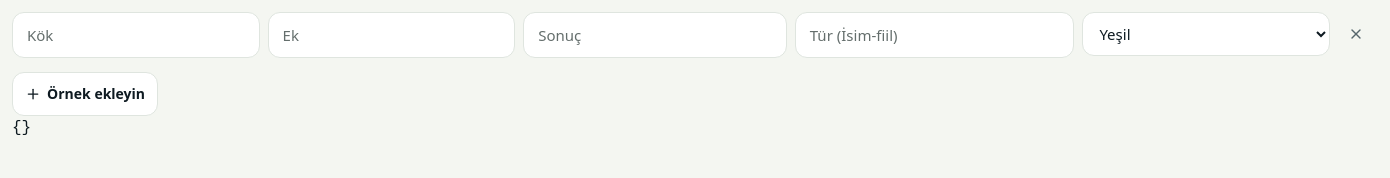
Test: satır formları gerçek yazımla › ek formülü: beş alan ve renk yazılır
The image size is (1390, 178).
Click the text box named "Kök 1": (136, 35) x1=12 y1=12 x2=260 y2=58
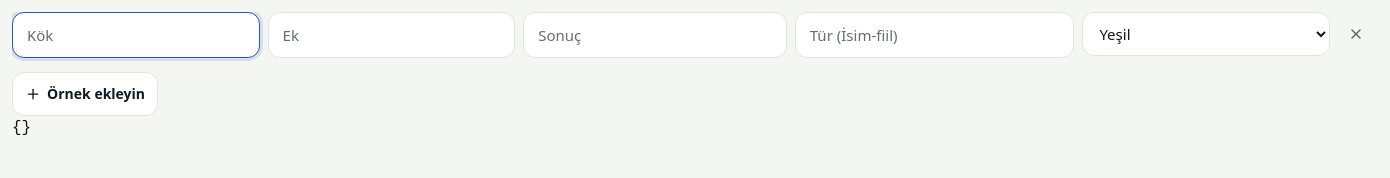
Type keys "koş{Enter}mak{Enter}koşmak{Enter}İsim-fiil"
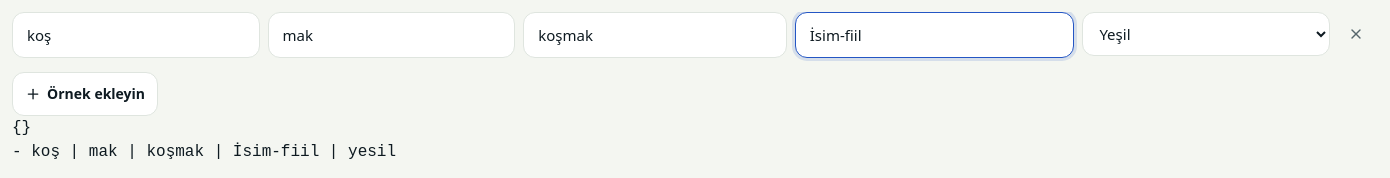
Now the text with test id "out" shows "- koş | mak | koşmak | İsim-fiil | yesil", box x1=12 y1=119 x2=396 y2=161
